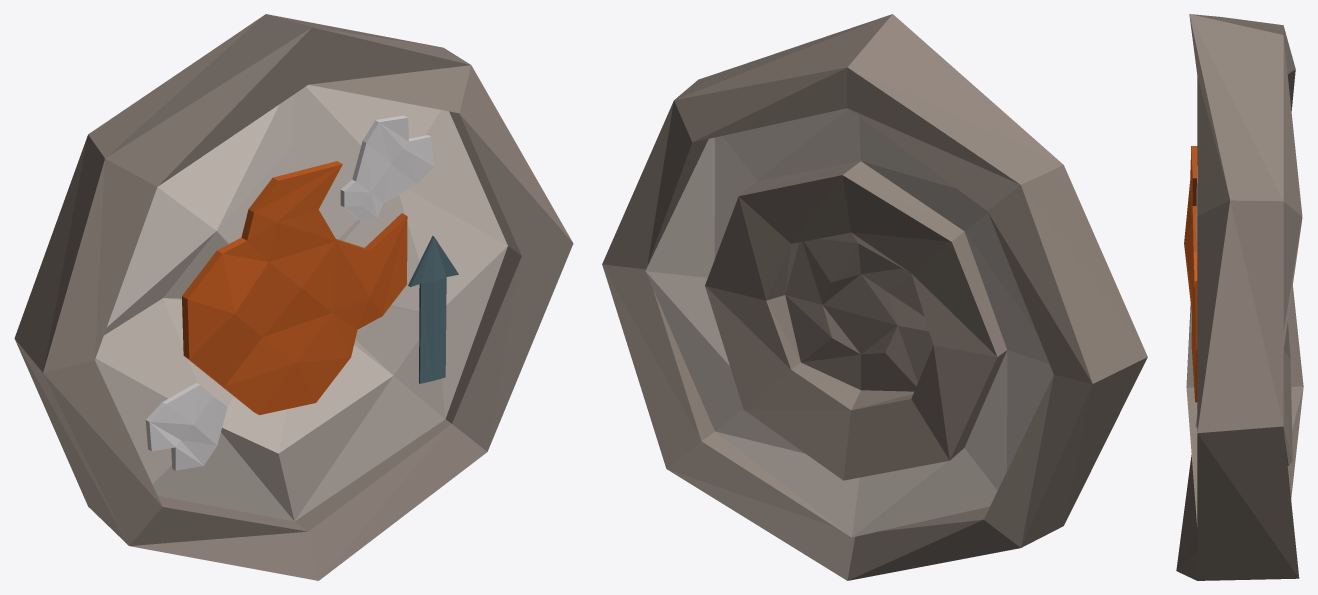
Rendered from item_fly_sp_up.FBX.
3 views of the same model, side by side, from view 1: azimuth 30°, elevation 25°; view 2: azimuth 150°, elevation 25°; view 3: azimuth 270°, elevation 25° (orthographic). The views are drawn at different scales.
Visible parts, largest first — view 1: coin; view 2: coin; view 3: coin.
Boxes of the visible parts, x1,y1,x2,y2 form: coin: [14, 14, 573, 580]; coin: [602, 14, 1147, 580]; coin: [1176, 14, 1303, 580].
Bounding box in the file's own units: 31.09 × 30.75 × 6.37.
Materials: 1 (1 with a texture image).
